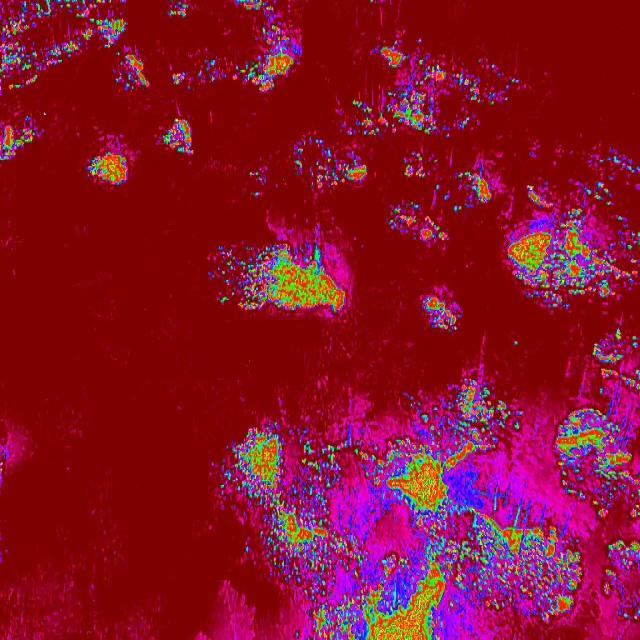fire: (198, 367, 640, 640), (344, 39, 524, 142), (500, 178, 640, 310), (0, 0, 147, 95), (212, 228, 356, 322), (282, 137, 370, 193), (245, 27, 311, 93), (388, 198, 454, 250), (0, 118, 51, 167), (456, 163, 503, 211), (589, 328, 640, 368), (423, 285, 468, 330), (86, 144, 134, 185), (160, 115, 201, 159)
